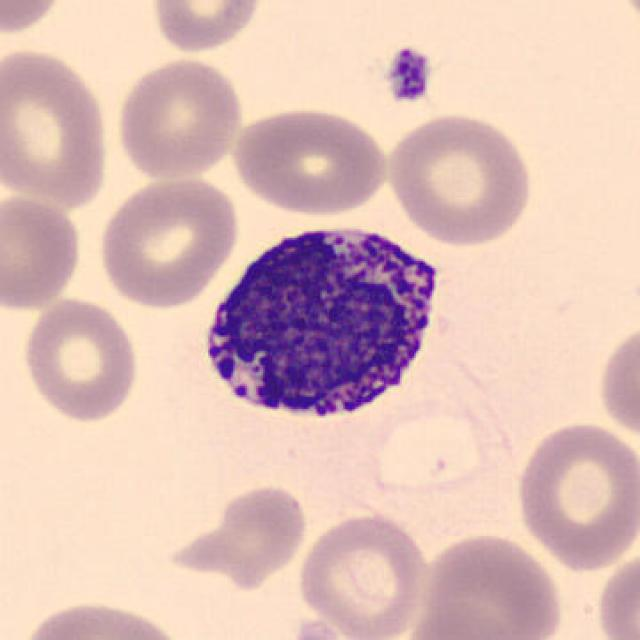Basophil: (192, 210, 452, 434)
Platelets: (380, 44, 436, 108)
RBC: (382, 108, 537, 248), (94, 171, 244, 310), (510, 418, 638, 573), (226, 102, 393, 219), (0, 44, 116, 212), (348, 386, 508, 501), (294, 510, 431, 638), (112, 53, 247, 181), (414, 529, 567, 640), (18, 294, 142, 425), (162, 481, 311, 589), (0, 190, 85, 313), (15, 596, 188, 640), (146, 0, 266, 55), (594, 316, 638, 446), (398, 604, 520, 640), (594, 543, 638, 640), (0, 0, 71, 39)
